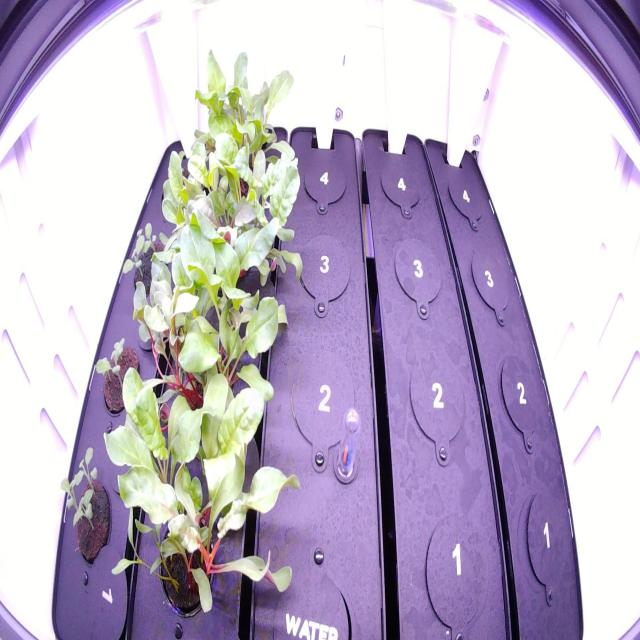empty_pod: (418, 507, 493, 639), (285, 348, 360, 467), (404, 346, 470, 464), (520, 487, 578, 597), (492, 348, 548, 459), (292, 225, 352, 313), (388, 228, 446, 316), (464, 238, 518, 328), (298, 138, 349, 218), (441, 158, 491, 228), (374, 151, 424, 216)
germination: (57, 440, 118, 572), (90, 329, 148, 422), (115, 220, 175, 308)
